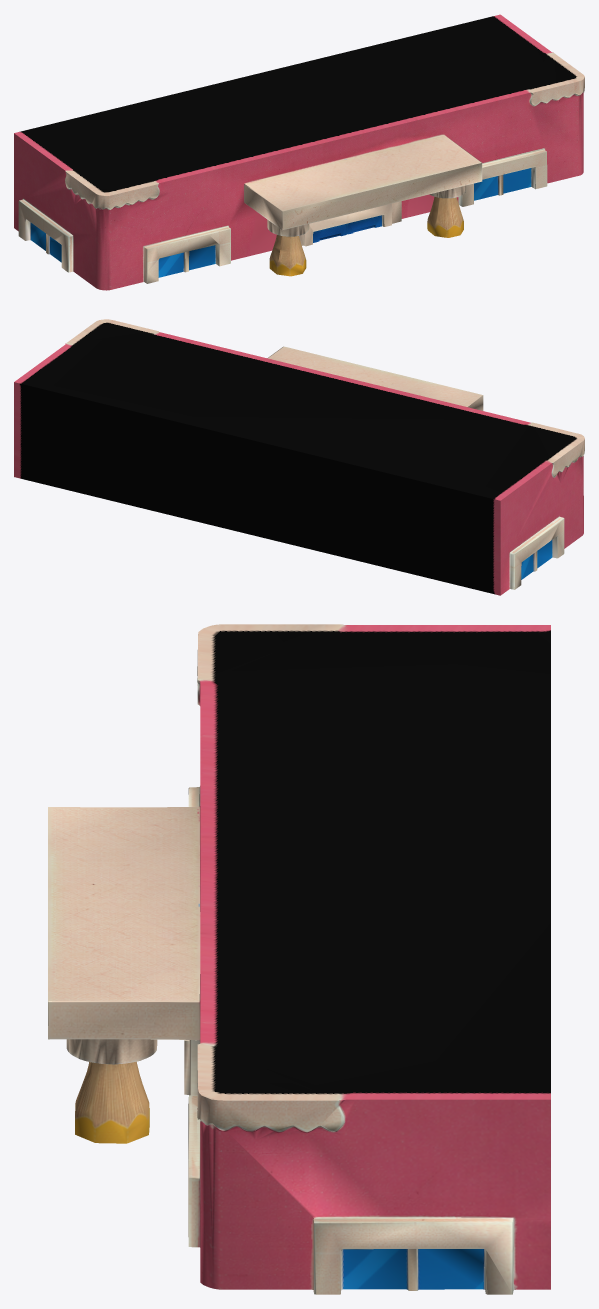
File: 5-upper-walls-front.fbx
The picture shows the model from 3 angles, top to bottom: view 1: azimuth 30°, elevation 25°; view 2: azimuth 150°, elevation 25°; view 3: azimuth 270°, elevation 25°; orthographic projection. The views are drawn at different scales.
Visible parts, largest first — view 1: upper-walls-front; view 2: upper-walls-front; view 3: upper-walls-front.
Boxes of the visible parts, x1=… form: upper-walls-front: x1=14, y1=14, x2=584, y2=290; upper-walls-front: x1=14, y1=319, x2=584, y2=595; upper-walls-front: x1=48, y1=624, x2=550, y2=1294.
Size of the model in its own units: 9639 by 1762 by 4228.
1 material, 1 textured.
